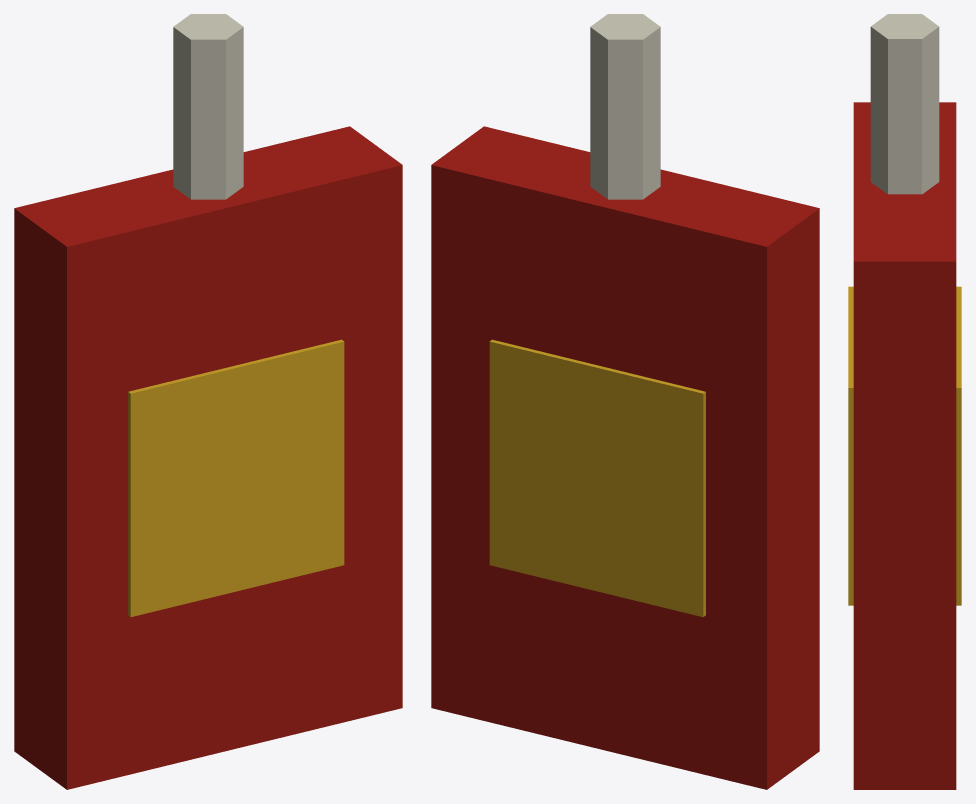
File: Item_Charm.fbx
The picture shows the model from 3 angles, left to right: view 1: azimuth 30°, elevation 25°; view 2: azimuth 150°, elevation 25°; view 3: azimuth 270°, elevation 25°; orthographic projection. The views are drawn at different scales.
Parts seen in each view (by area): view 1: Item_Charm; view 2: Item_Charm; view 3: Item_Charm.
Part boxes in pixels (x1=…): Item_Charm: x1=14, y1=14, x2=402, y2=789; Item_Charm: x1=431, y1=14, x2=819, y2=789; Item_Charm: x1=848, y1=14, x2=961, y2=789.
Bounding box in the file's own units: 0.11 × 0.22 × 0.033.
